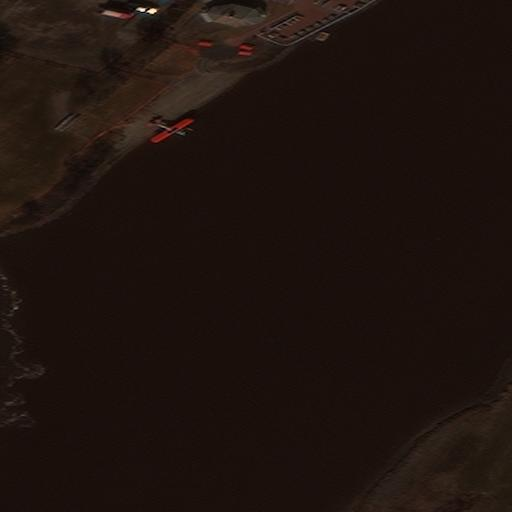Small Civil Transport: (152, 119, 195, 143)
